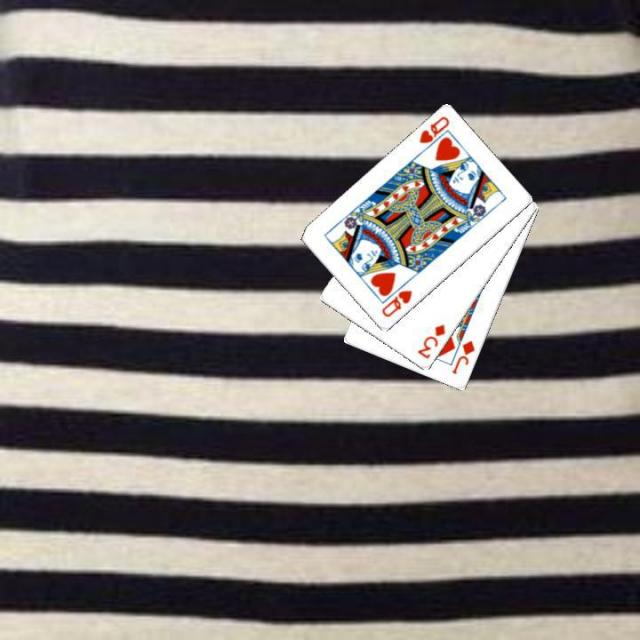3D: (413, 320, 447, 361)
JD: (448, 337, 477, 376)
QH: (415, 113, 452, 155), (378, 286, 414, 319)
